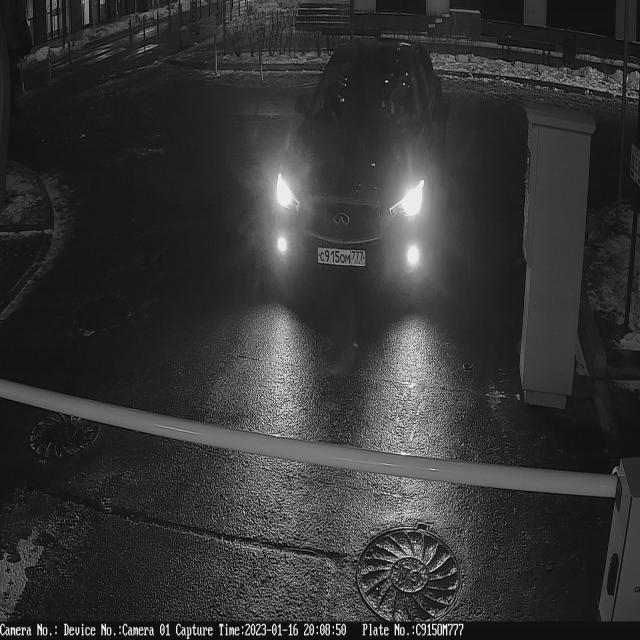car-plate-numbers: (316, 245, 368, 275)
